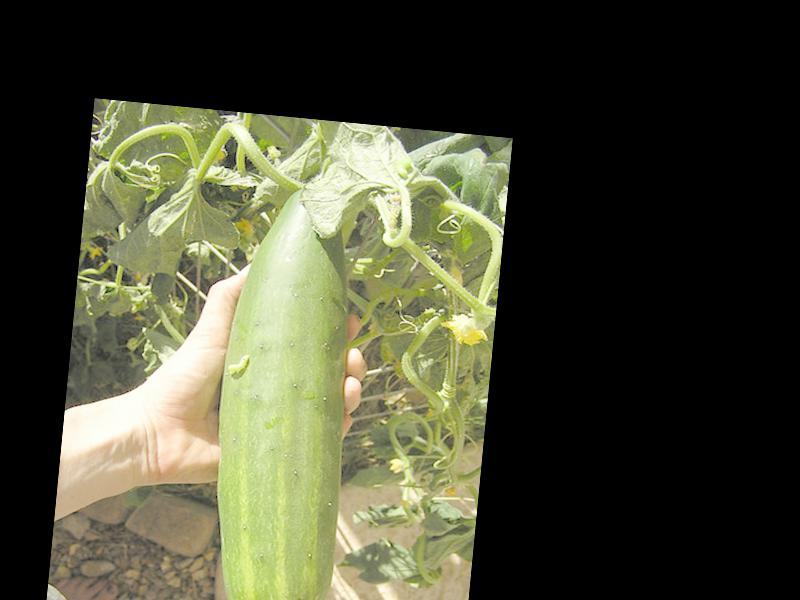Cucumber: (198, 178, 370, 600)
